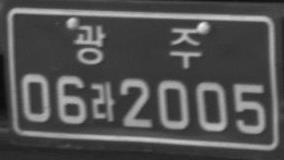0: (194, 81, 228, 132), (156, 79, 190, 129), (20, 72, 51, 122)
2: (119, 77, 153, 128)
5: (231, 82, 267, 135)
6: (55, 75, 87, 124)
광주_D: (72, 24, 202, 68)
라: (90, 81, 115, 122)
